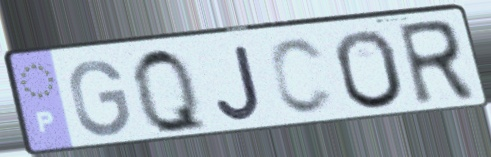C: (265, 35, 338, 118)
G: (67, 57, 134, 140)
J: (213, 42, 265, 123)
O: (331, 27, 408, 112)
Q: (129, 44, 213, 137)
R: (393, 16, 480, 110)
